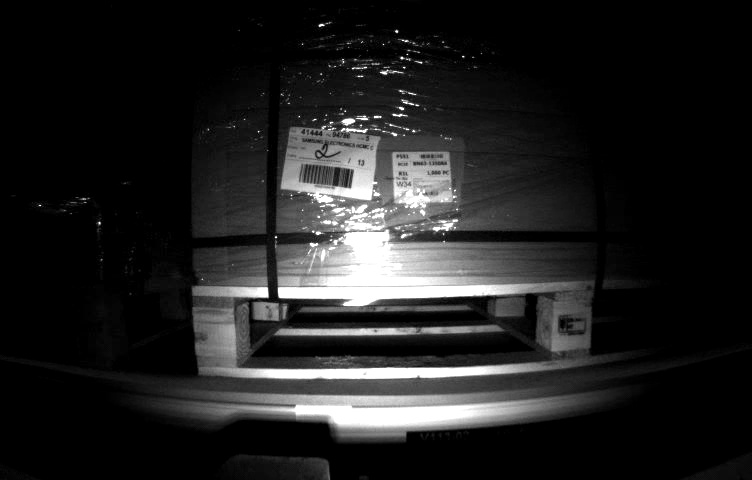True Barcode: (394, 148, 454, 214)
